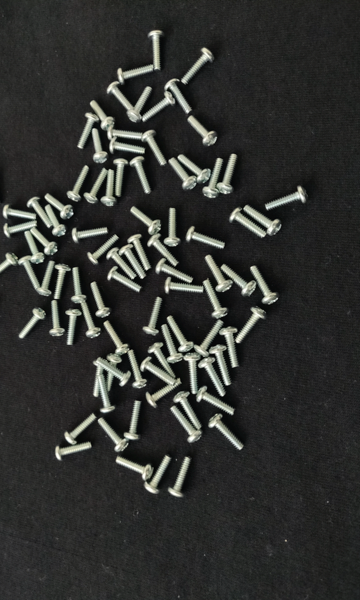shortscrew: (209, 413, 244, 451), (182, 47, 216, 85), (249, 265, 280, 306), (97, 417, 132, 453), (170, 406, 203, 444), (235, 306, 267, 345), (195, 318, 226, 358), (221, 265, 258, 298), (143, 455, 172, 497), (229, 207, 267, 239), (244, 205, 283, 236), (195, 386, 235, 416), (173, 390, 202, 431), (140, 357, 177, 388), (265, 186, 309, 212), (199, 357, 227, 397), (177, 154, 213, 185), (64, 414, 98, 446), (147, 378, 183, 408), (203, 279, 230, 319), (209, 345, 236, 385), (168, 157, 198, 193), (141, 92, 177, 122), (205, 255, 234, 292), (103, 320, 132, 356), (164, 77, 192, 114), (87, 234, 119, 266), (98, 359, 134, 387), (119, 244, 147, 280), (216, 153, 240, 195), (167, 316, 194, 353), (188, 116, 220, 147), (149, 233, 179, 266), (186, 226, 227, 250), (155, 258, 194, 283), (142, 130, 168, 167), (84, 169, 110, 206), (106, 248, 136, 280), (161, 324, 185, 364), (18, 307, 47, 340), (108, 266, 143, 293), (202, 158, 225, 199), (127, 87, 152, 124), (26, 196, 54, 229), (115, 457, 155, 480), (220, 326, 241, 369), (169, 457, 191, 498), (130, 207, 162, 235), (127, 234, 151, 271), (77, 113, 101, 150), (130, 157, 153, 195), (143, 297, 164, 337), (67, 165, 89, 203), (127, 350, 148, 389), (80, 303, 102, 340), (91, 100, 117, 131), (44, 205, 68, 238), (125, 399, 143, 442), (118, 64, 154, 85), (45, 194, 74, 220), (19, 254, 40, 289), (55, 442, 93, 461), (53, 263, 73, 299), (24, 231, 45, 265), (184, 352, 201, 394), (148, 30, 165, 72), (165, 277, 204, 295), (107, 82, 133, 109), (3, 220, 39, 239), (101, 169, 119, 207), (91, 128, 110, 164), (99, 374, 116, 414), (72, 226, 109, 244), (49, 299, 66, 338), (165, 208, 182, 247), (106, 354, 123, 392), (38, 262, 56, 297), (65, 309, 82, 345), (3, 205, 36, 223), (0, 252, 19, 282), (94, 359, 108, 398), (113, 159, 127, 197)
